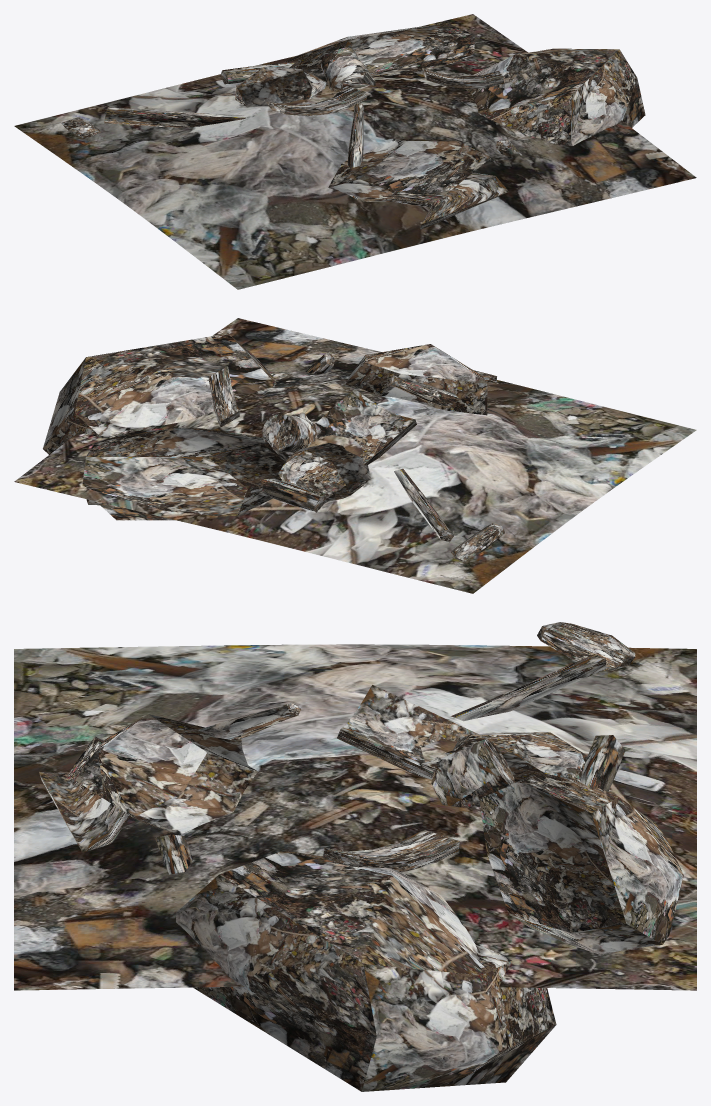
File: Trash2.FBX
3 renders of one model, top to bottom at view 1: azimuth 30°, elevation 25°; view 2: azimuth 150°, elevation 25°; view 3: azimuth 270°, elevation 25°, orthographic. The views are drawn at different scales.
Visible parts, largest first — view 1: Rock008, wooden bucket001, wood2, Rock009; view 2: Rock008, wooden bucket001, wood2, Rock009; view 3: Rock008, wooden bucket001, Rock009, wood2, wood1.
Boxes of the visible parts, <box> form: Rock008: <box>14,14,696,289</box>; wooden bucket001: <box>321,47,375,91</box>; wood2: <box>220,61,296,84</box>; Rock009: <box>61,117,100,138</box>; Rock008: <box>14,318,696,593</box>; wooden bucket001: <box>262,413,316,452</box>; wood2: <box>258,479,326,512</box>; Rock009: <box>451,523,504,561</box>; Rock008: <box>14,644,696,1091</box>; wooden bucket001: <box>421,739,514,807</box>; Rock009: <box>537,622,635,670</box>; wood2: <box>580,735,625,791</box>; wood1: <box>155,834,192,874</box>.
Size of the model in its own units: 0.4973 by 0.1222 by 0.3698.
1 material, 1 textured.
